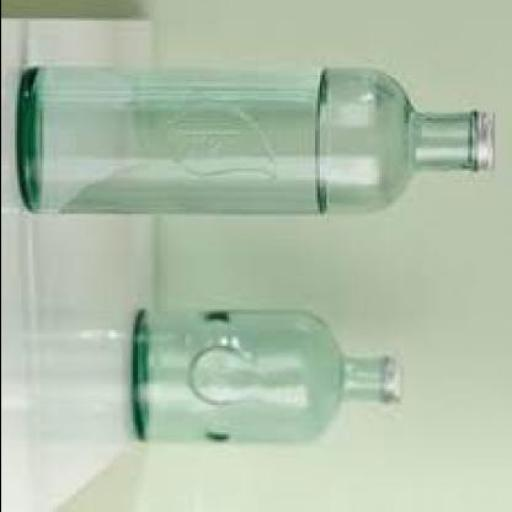glass: (18, 68, 478, 216), (132, 312, 391, 446)
metal: (473, 116, 498, 173), (382, 362, 409, 407)
